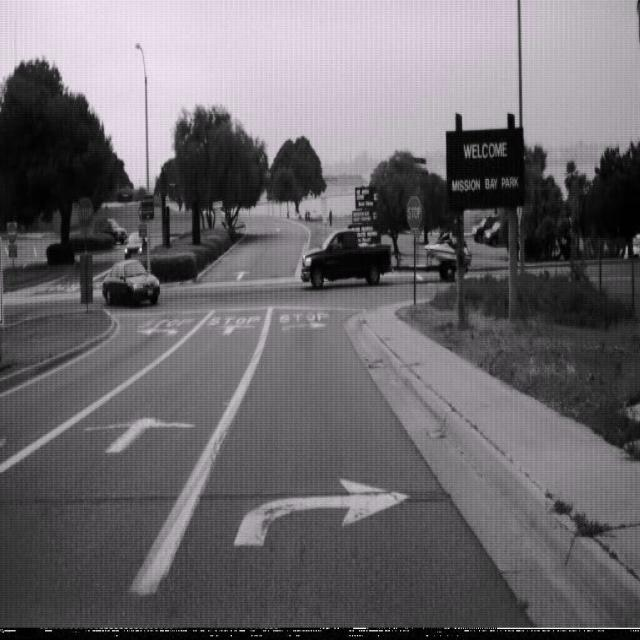stop: (76, 195, 94, 233), (405, 193, 423, 230)
